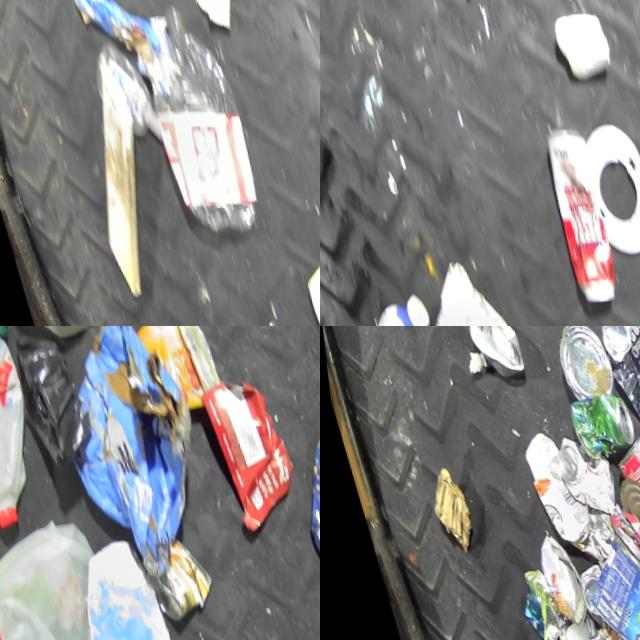can: (518, 122, 618, 321), (561, 529, 640, 640), (131, 538, 211, 631), (541, 430, 613, 527), (583, 326, 640, 434), (520, 531, 579, 634), (597, 428, 640, 565), (538, 326, 609, 407), (558, 390, 631, 467), (602, 473, 640, 605), (454, 326, 519, 384), (561, 565, 601, 632), (570, 619, 640, 640), (538, 614, 590, 640)
milk_jug: (0, 511, 119, 640), (0, 326, 54, 543), (5, 326, 125, 351)
plastic_bottle: (114, 0, 258, 250)
